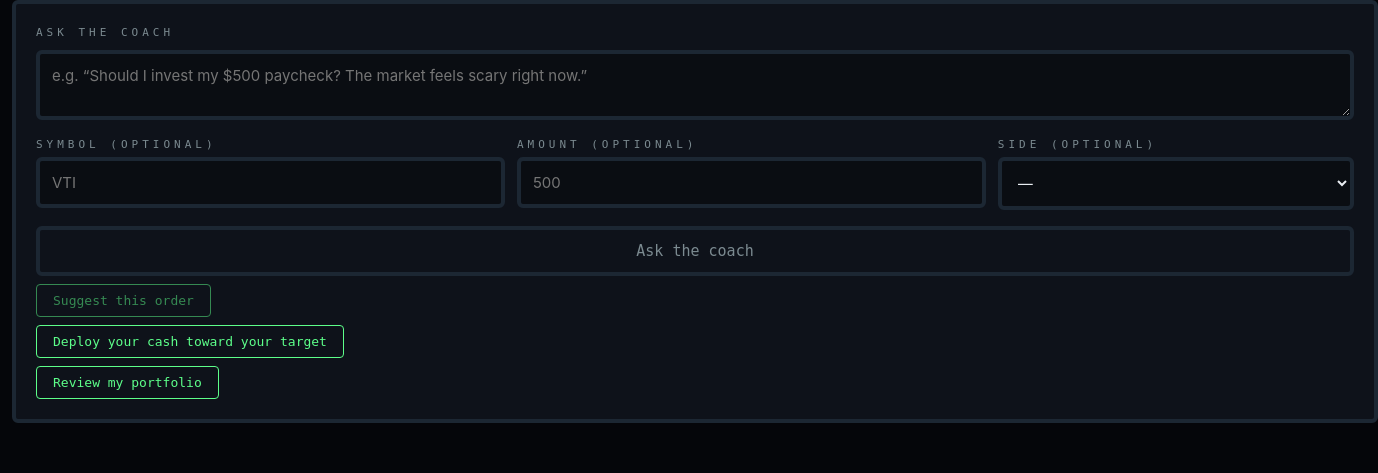
Test: CoachConsult — review-my-portfolio affordance (Story 10.4) › shows the calm "nothing to fix" message on empty findings, populates nothing
Step 1. Click the button with test id "coach-review-portfolio" → (127, 383), box top-left (36, 366), bottom-right (219, 399)
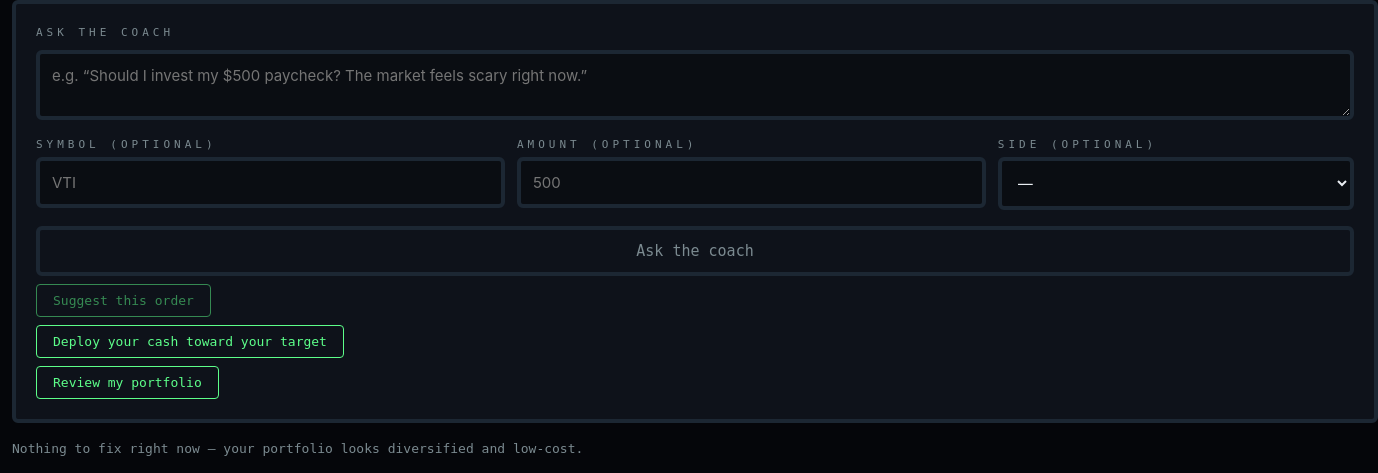
Expected: the field with test id "coach-symbol-input" is empty, top-left (36, 157), bottom-right (505, 208)
Expected: the message with test id "coach-review-empty" shows "Nothing to fix", top-left (12, 441), bottom-right (583, 456)
